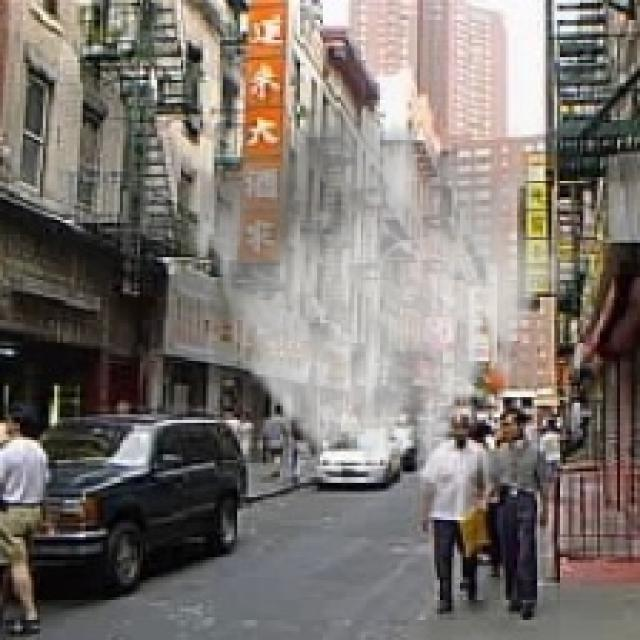smoke: (189, 80, 580, 500)
